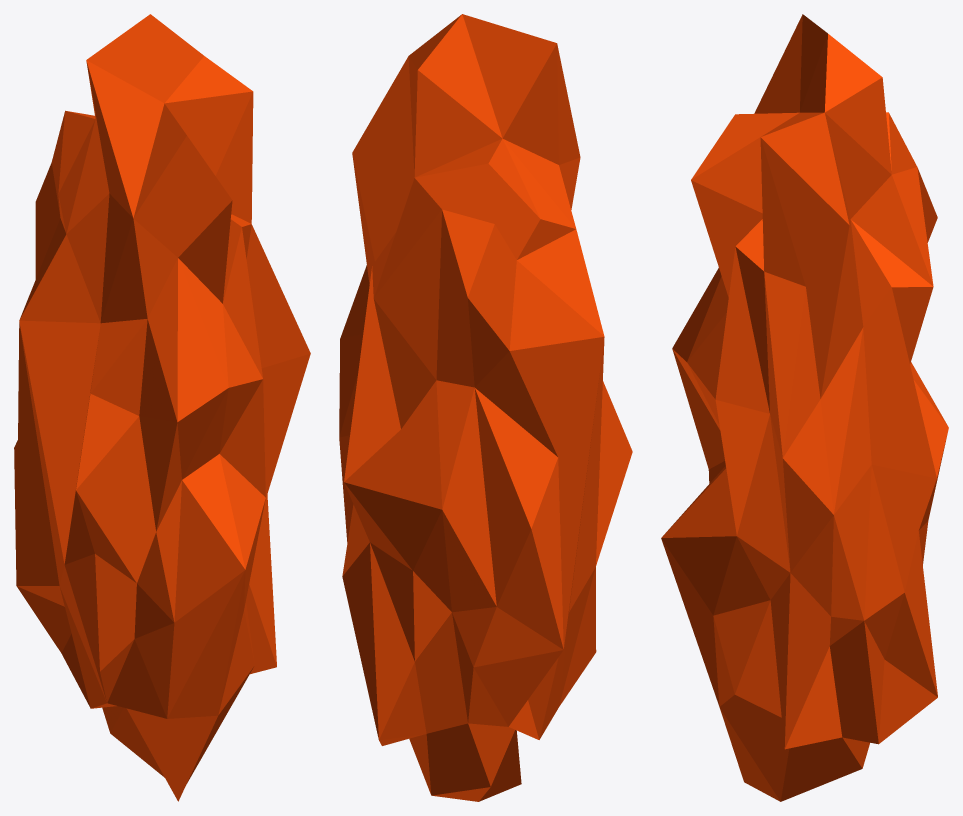
The model's file is Crystal_044.fbx.
The picture shows the model from 3 angles, left to right: view 1: azimuth 30°, elevation 25°; view 2: azimuth 150°, elevation 25°; view 3: azimuth 270°, elevation 25°; orthographic projection. The views are drawn at different scales.
Parts seen in each view (by area): view 1: Crystal.044; view 2: Crystal.044; view 3: Crystal.044.
Boxes of the visible parts, x1,y1,x2,y2 form: Crystal.044: [14, 14, 310, 801]; Crystal.044: [339, 14, 632, 801]; Crystal.044: [661, 14, 948, 801].
Size of the model in its own units: 228 by 613 by 209.
